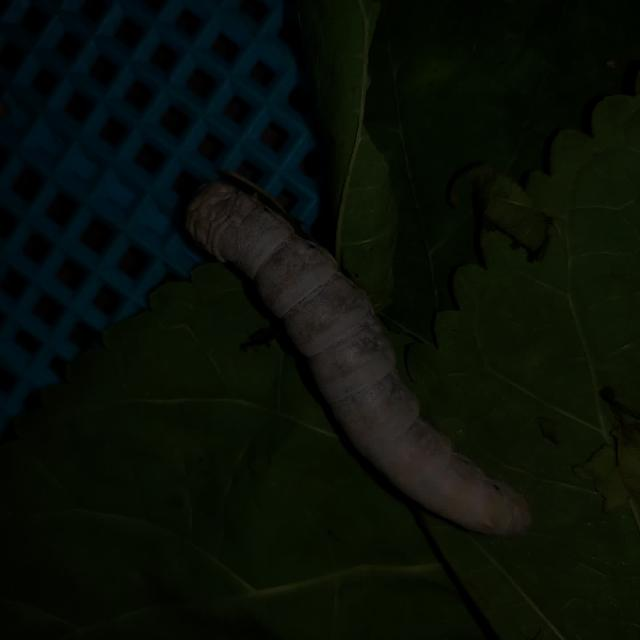Grasserie: (173, 171, 538, 548)
